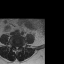CCS_stenosis: (16, 44, 17, 51)
LFS_severe_stenosis: (19, 44, 20, 49)
LLS_stenosis: (17, 45, 19, 49)
RFS_severe_stenosis: (13, 44, 14, 48)
RLS_severe_stenosis: (14, 44, 16, 49)
